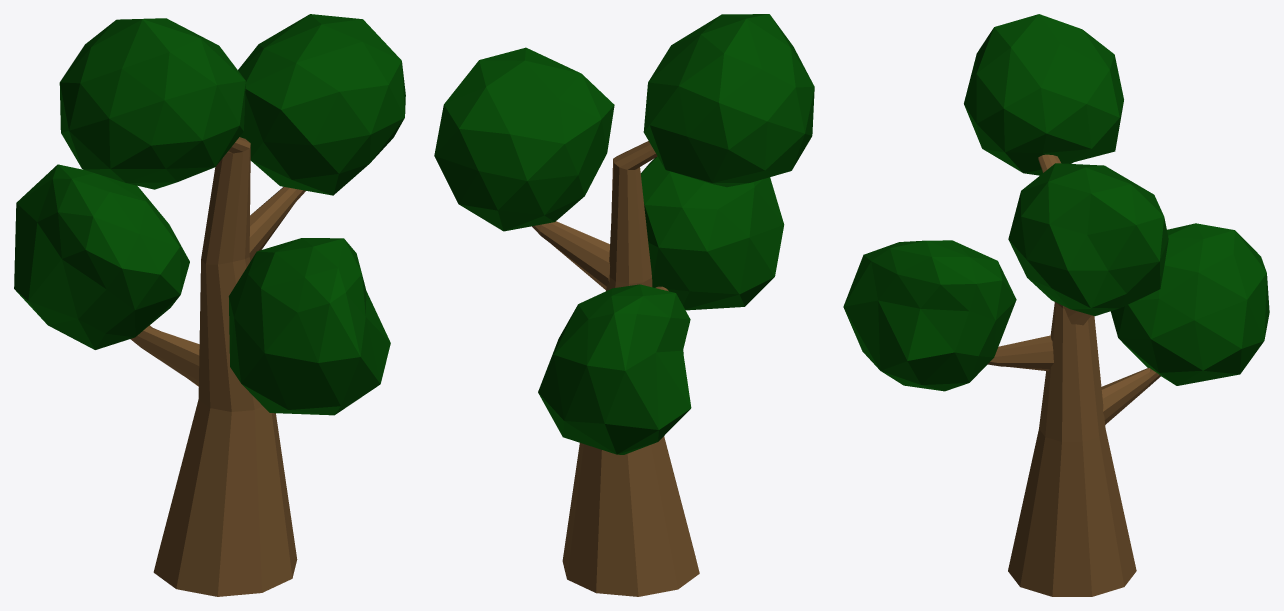
The model's file is Tree 1.fbx.
The picture shows the model from 3 angles, left to right: view 1: azimuth 30°, elevation 25°; view 2: azimuth 150°, elevation 25°; view 3: azimuth 270°, elevation 25°; orthographic projection. The views are drawn at different scales.
Visible parts, largest first — view 1: Tree 2; view 2: Tree 2; view 3: Tree 2.
Part boxes in pixels (box(x1,y1,x2,y2)): Tree 2: box(14, 14, 405, 596); Tree 2: box(434, 14, 814, 596); Tree 2: box(843, 14, 1269, 596).
Size of the model in its own units: 546 by 879 by 662.
